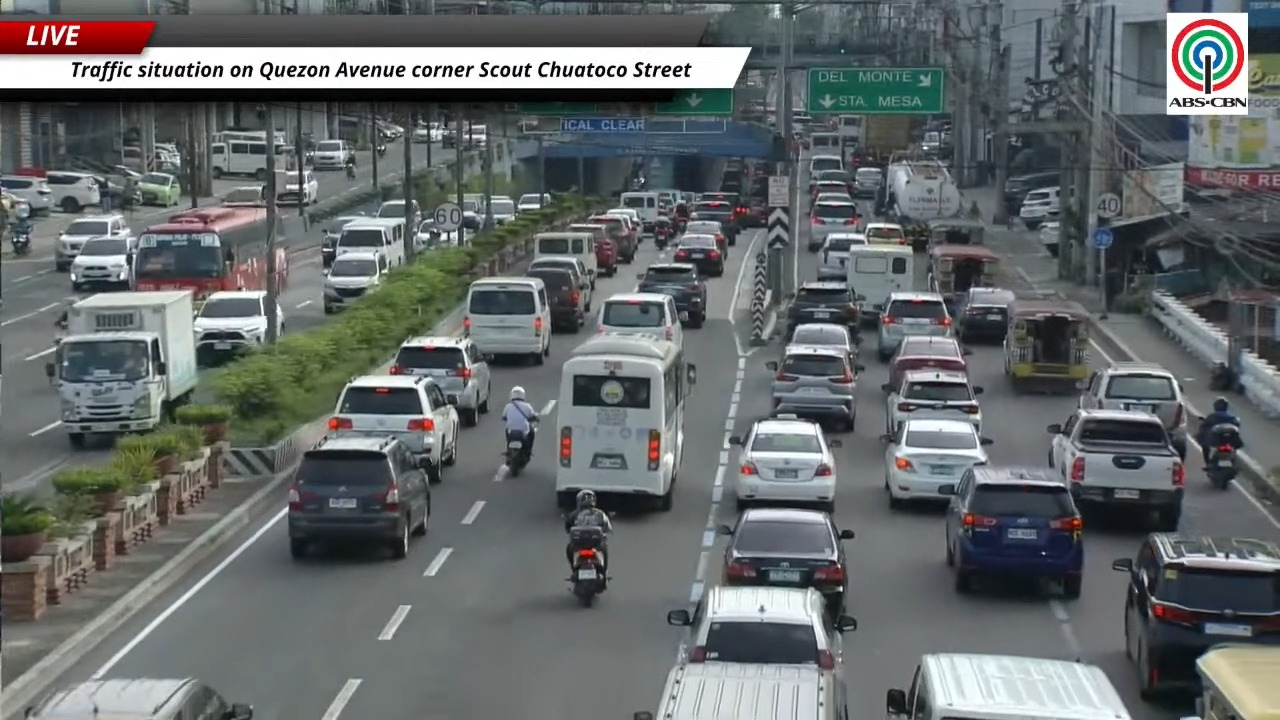bus: (555, 333, 695, 511), (133, 206, 267, 301), (209, 139, 266, 180), (210, 130, 266, 143)
car: (1112, 533, 1279, 699), (943, 466, 1082, 598), (286, 434, 430, 559), (667, 587, 856, 670), (718, 507, 854, 616), (328, 375, 460, 483), (1077, 361, 1187, 458), (729, 416, 839, 511), (23, 677, 253, 719), (882, 419, 989, 508), (389, 336, 490, 426), (766, 345, 863, 431), (882, 370, 983, 433), (877, 291, 951, 361), (636, 262, 706, 328), (596, 293, 683, 346), (54, 213, 133, 271), (887, 337, 970, 388), (787, 281, 859, 337), (323, 252, 388, 313), (528, 255, 593, 314), (69, 236, 134, 290), (955, 287, 1015, 341), (789, 322, 859, 362), (807, 198, 859, 251), (321, 214, 367, 267), (1003, 171, 1060, 213), (818, 233, 866, 282), (45, 171, 100, 212), (689, 200, 738, 245), (673, 233, 724, 276), (0, 175, 52, 215), (697, 188, 748, 226), (1018, 186, 1059, 230), (276, 170, 318, 205), (138, 172, 181, 206), (603, 208, 641, 245), (684, 220, 727, 251), (605, 207, 645, 240), (415, 219, 457, 250), (375, 199, 421, 227), (312, 139, 353, 169), (863, 222, 907, 244), (220, 185, 266, 206), (810, 170, 851, 193), (852, 167, 882, 197), (0, 191, 31, 220), (487, 198, 517, 226), (810, 179, 850, 199), (1038, 220, 1060, 256), (516, 193, 552, 213), (809, 154, 843, 175), (412, 122, 442, 143), (461, 208, 483, 231), (813, 192, 851, 202), (275, 303, 284, 334)
motorcycle: (568, 527, 605, 607), (1203, 423, 1241, 489), (504, 431, 529, 477), (654, 217, 674, 248), (10, 224, 30, 255), (674, 215, 688, 233), (345, 163, 356, 179), (376, 143, 386, 156)
truck: (46, 290, 197, 448), (1047, 408, 1184, 531), (885, 159, 961, 249), (862, 115, 911, 157)
